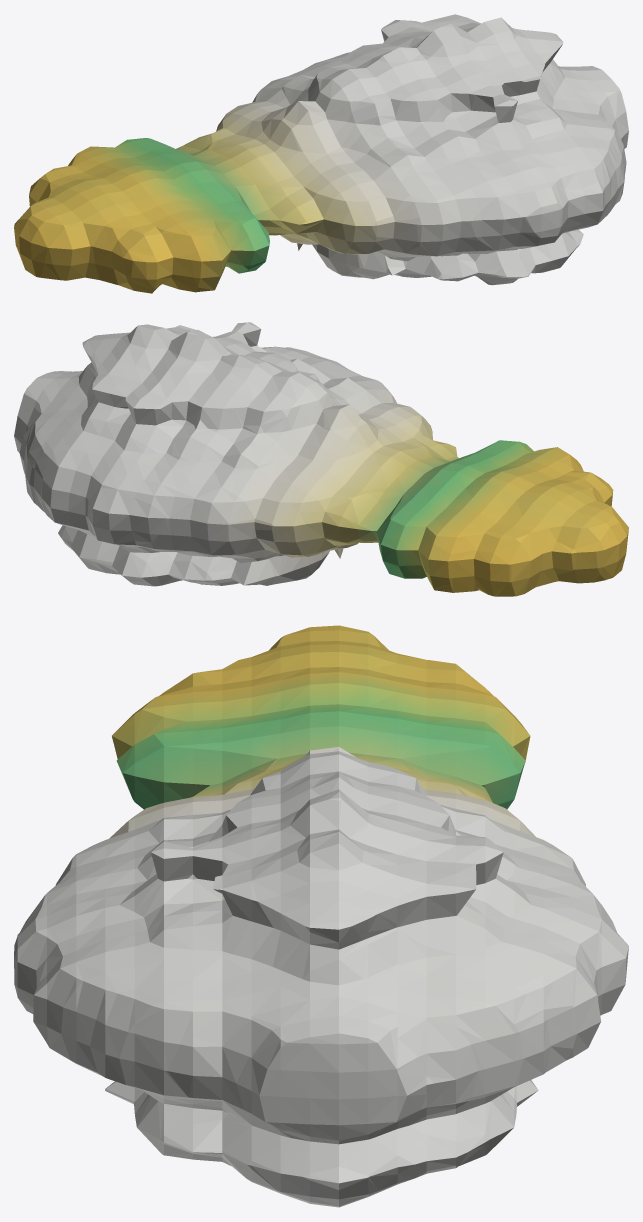
The picture shows the model from 3 angles, top to bottom: view 1: azimuth 30°, elevation 25°; view 2: azimuth 150°, elevation 25°; view 3: azimuth 270°, elevation 25°; orthographic projection. The views are drawn at different scales.
Parts seen in each view (by area): view 1: geometry_0; view 2: geometry_0; view 3: geometry_0.
Part boxes in pixels (bbox=[...]): geometry_0: bbox=[14, 14, 628, 293]; geometry_0: bbox=[14, 322, 628, 596]; geometry_0: bbox=[14, 625, 628, 1207].
Bounding box in the file's own units: 1.48 × 0.5816 × 0.8959.
